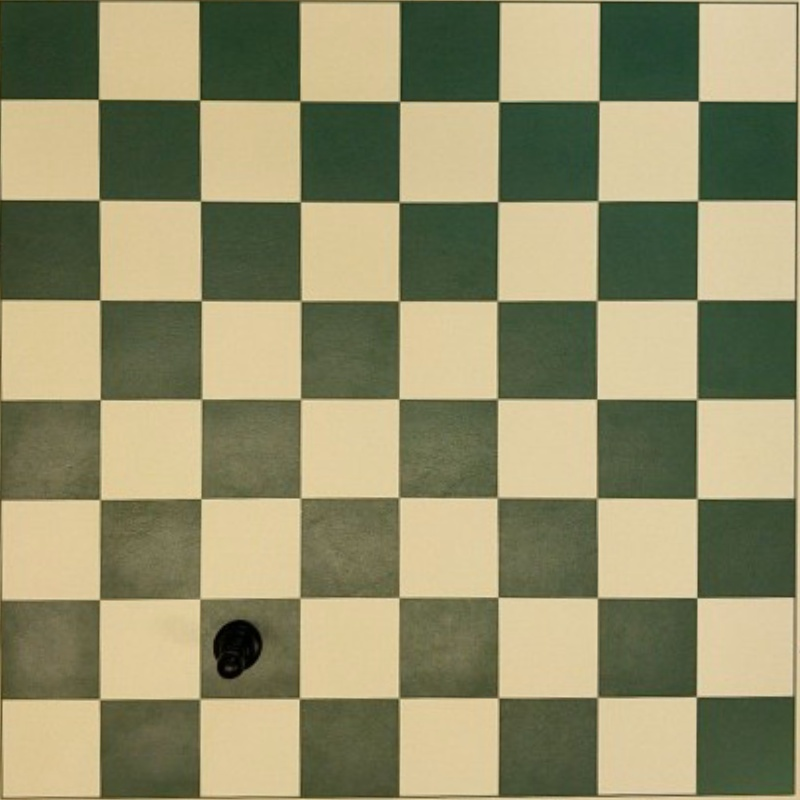black-pawn: (212, 619, 263, 679)
